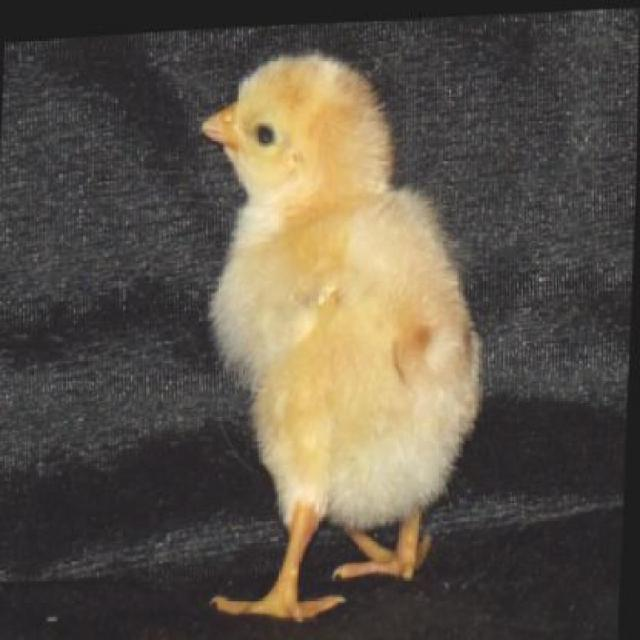poussin: (186, 47, 487, 628)
